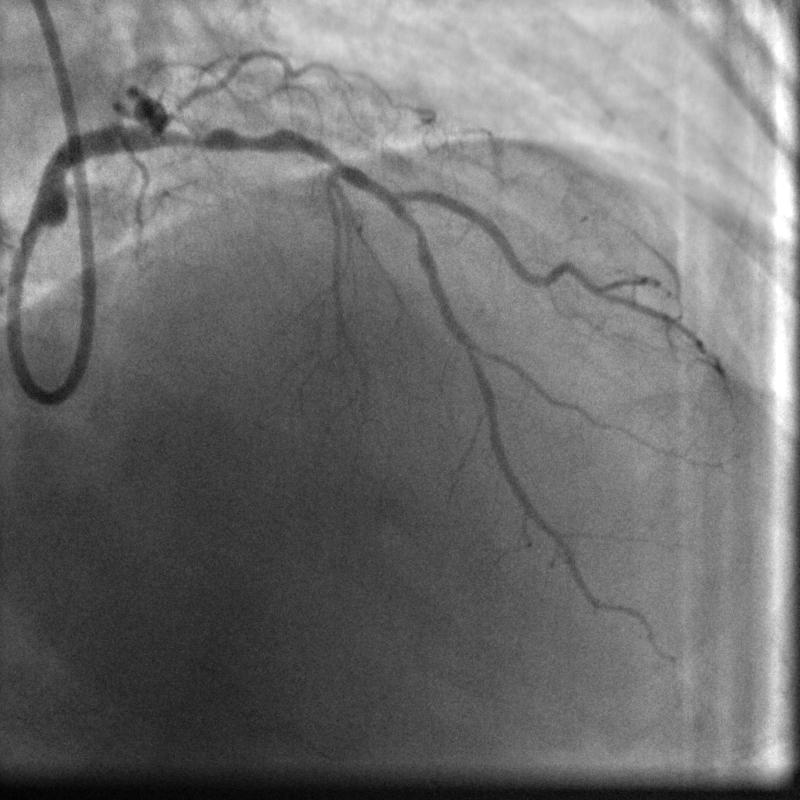Stenosis: (170, 117, 287, 147)
